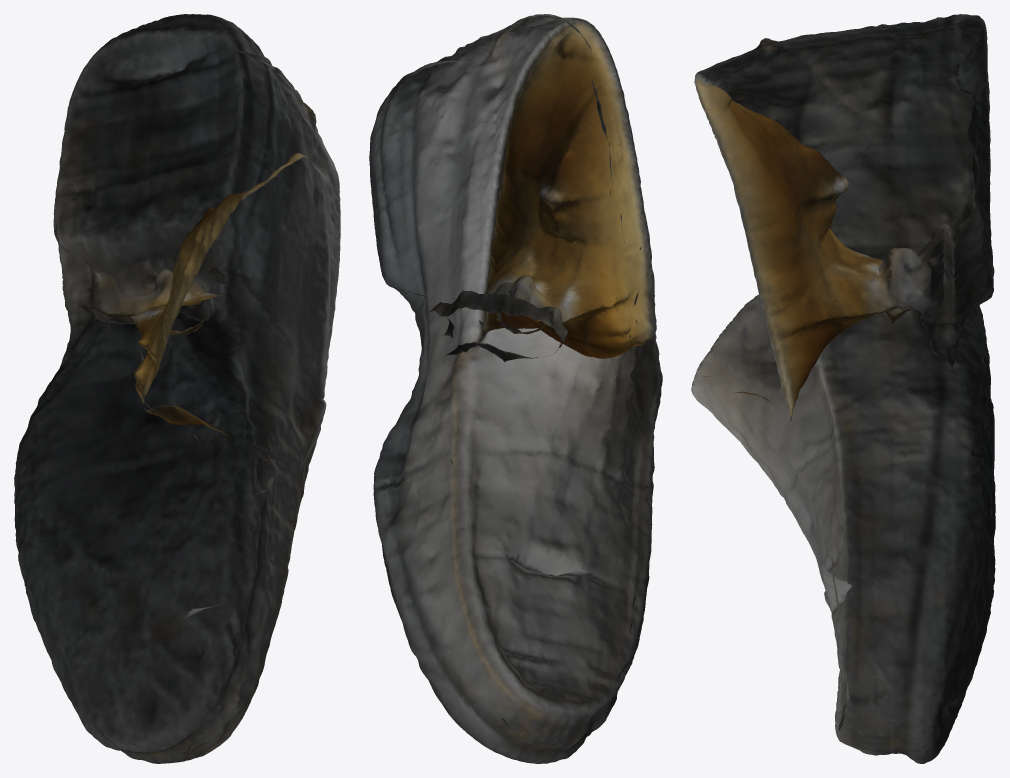
File: leather.glb
3 renders of one model, left to right at view 1: azimuth 30°, elevation 25°; view 2: azimuth 150°, elevation 25°; view 3: azimuth 270°, elevation 25°, orthographic. The views are drawn at different scales.
Size of the model in its own units: 0.3737 by 1 by 0.3695.
